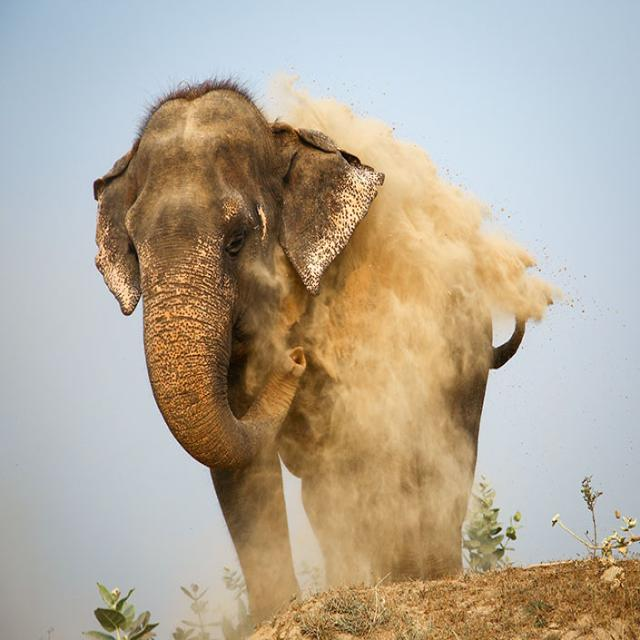Elephant: (80, 61, 548, 627)
